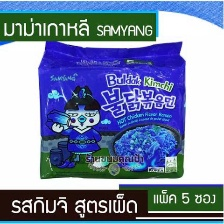snack: (30, 33, 193, 184)
